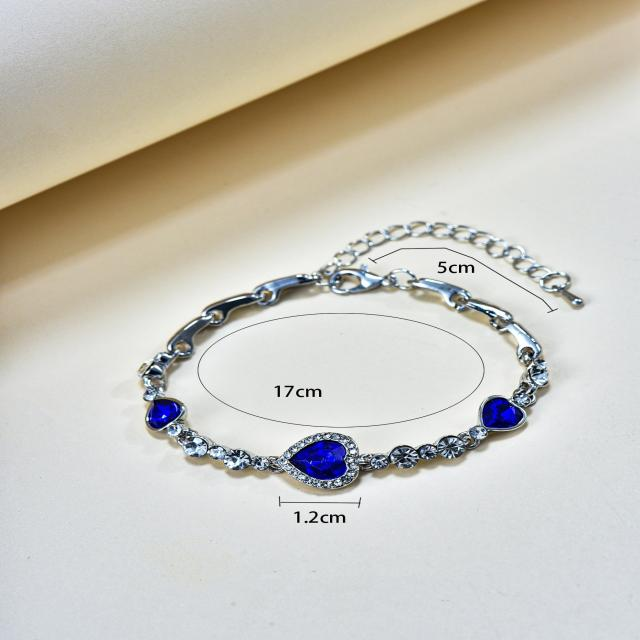bracelet: (48, 136, 636, 560)
